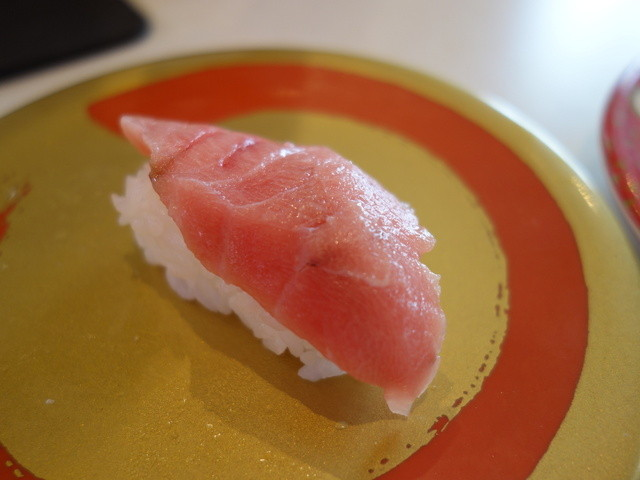medium_fatty_tuna: (107, 116, 445, 417)
